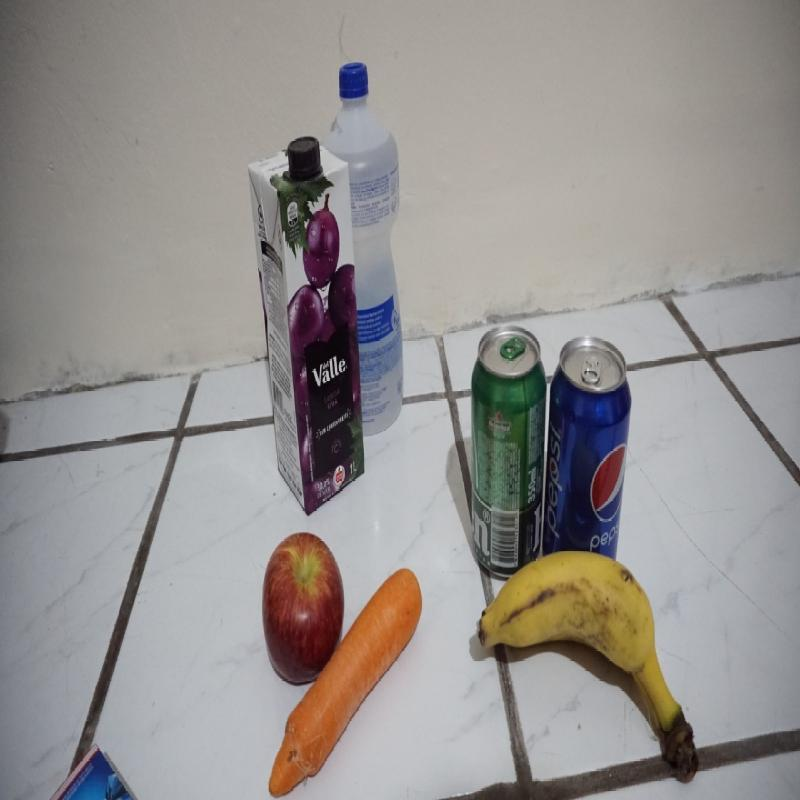Alcohol Bottle: (326, 60, 404, 444)
Apple: (262, 531, 343, 688)
Banana: (466, 550, 698, 769)
Beer can: (471, 324, 548, 573)
Carrot: (269, 568, 422, 799)
Gelatine: (49, 743, 139, 798)
Soda can: (549, 333, 632, 568)
